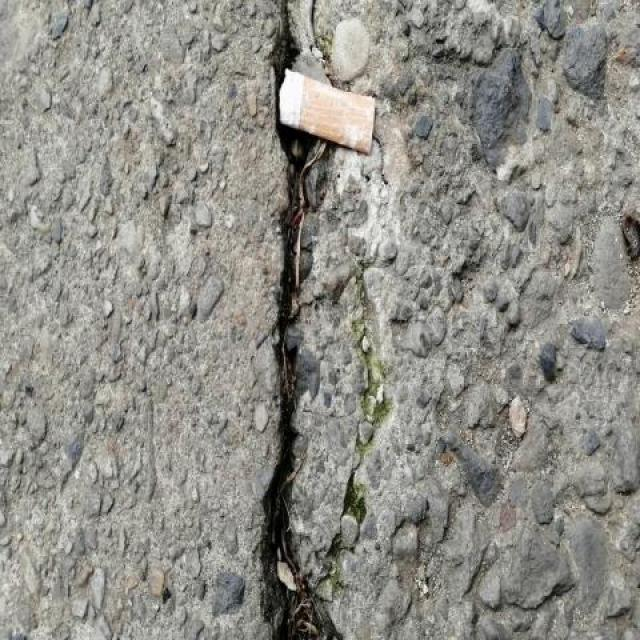non-organic waste: (275, 63, 381, 160)
